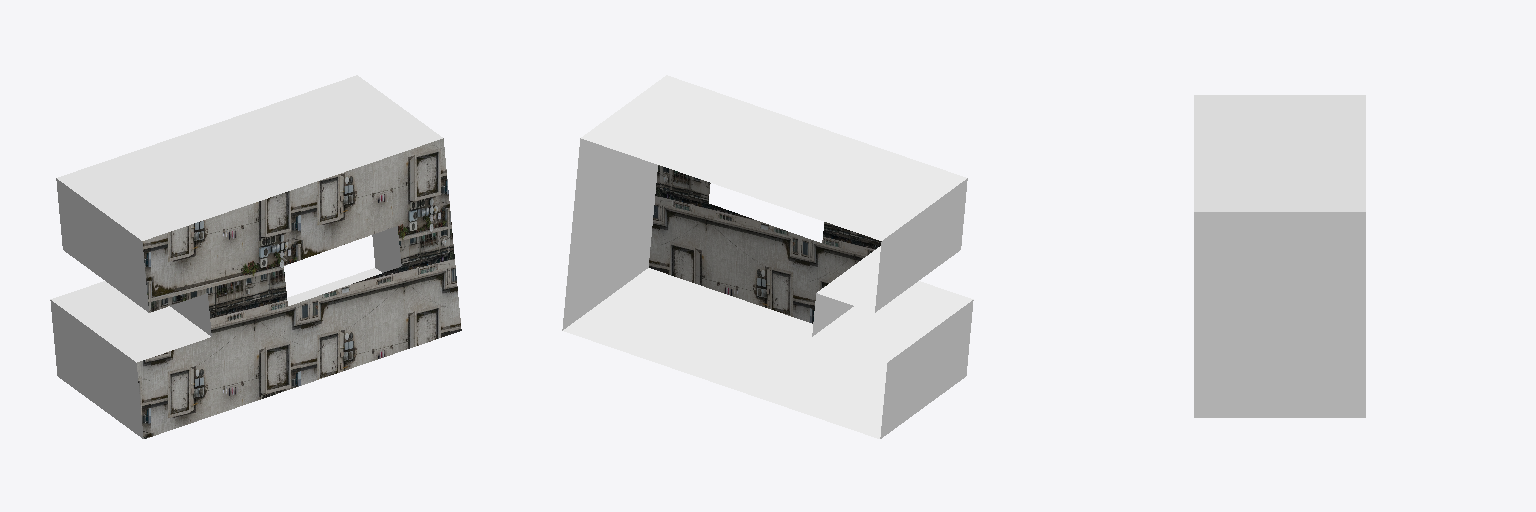
3 views of the same model, side by side, from view 1: azimuth 30°, elevation 25°; view 2: azimuth 150°, elevation 25°; view 3: azimuth 270°, elevation 25° (orthographic).
Visible parts, largest first — view 1: Building; view 2: Building; view 3: Building.
Part boxes in pixels (x1,y1,x2,y2): Building: (50, 75, 461, 438); Building: (562, 75, 973, 438); Building: (1194, 95, 1365, 417).
Size of the model in its own units: 52.21 by 35.02 by 24.
Materials: 2 (1 with a texture image).